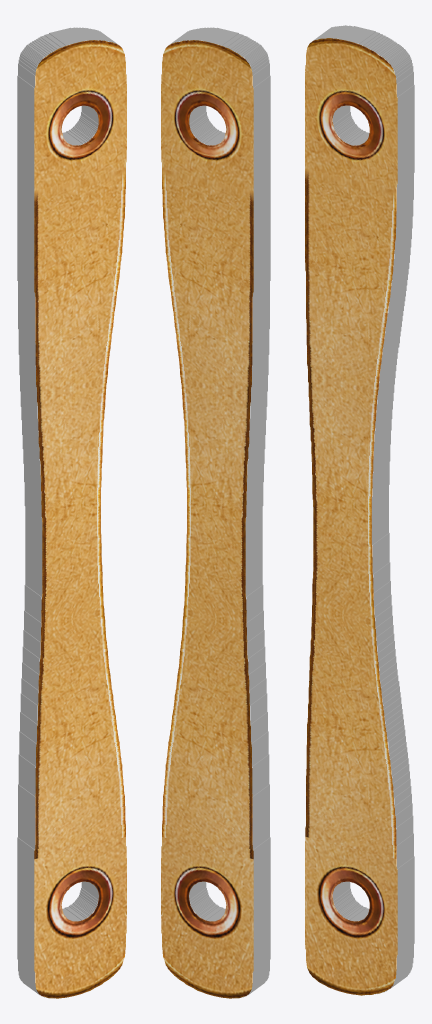
File: UpperLeg.glb
3 views of the same model, side by side, from view 1: azimuth 30°, elevation 25°; view 2: azimuth 150°, elevation 25°; view 3: azimuth 330°, elevation 25° (orthographic).
Visible parts, largest first — view 1: PaperVolume; view 2: PaperVolume; view 3: PaperVolume.
Boxes of the visible parts, left/top/right/bottom form: PaperVolume: left=17, top=27, right=126, bottom=998; PaperVolume: left=161, top=27, right=270, bottom=998; PaperVolume: left=305, top=25, right=414, bottom=995.
Bounding box in the file's own units: 0.2642 × 2.47 × 0.08.
3 materials, 2 textured.
